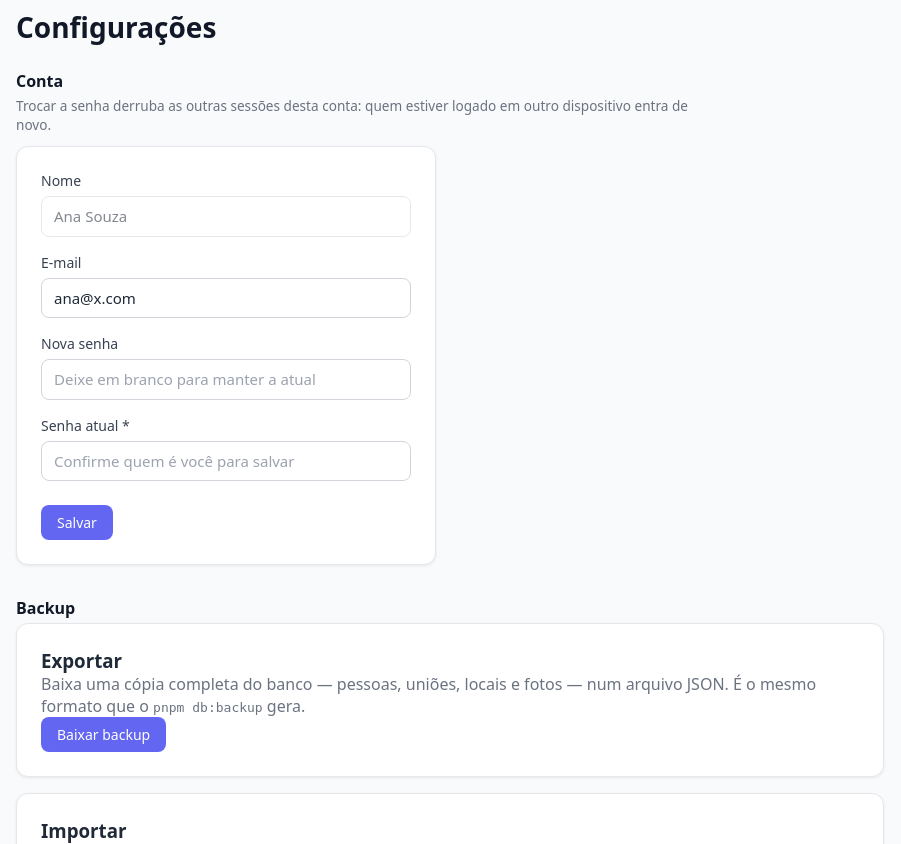
Configurações — conta › e-mail já usado por outra conta mostra mensagem de conflito
Replace the text in the field labelled "E-mail" with "ocupado@x.com" at (226, 298), box top-left (41, 278), bottom-right (411, 318)
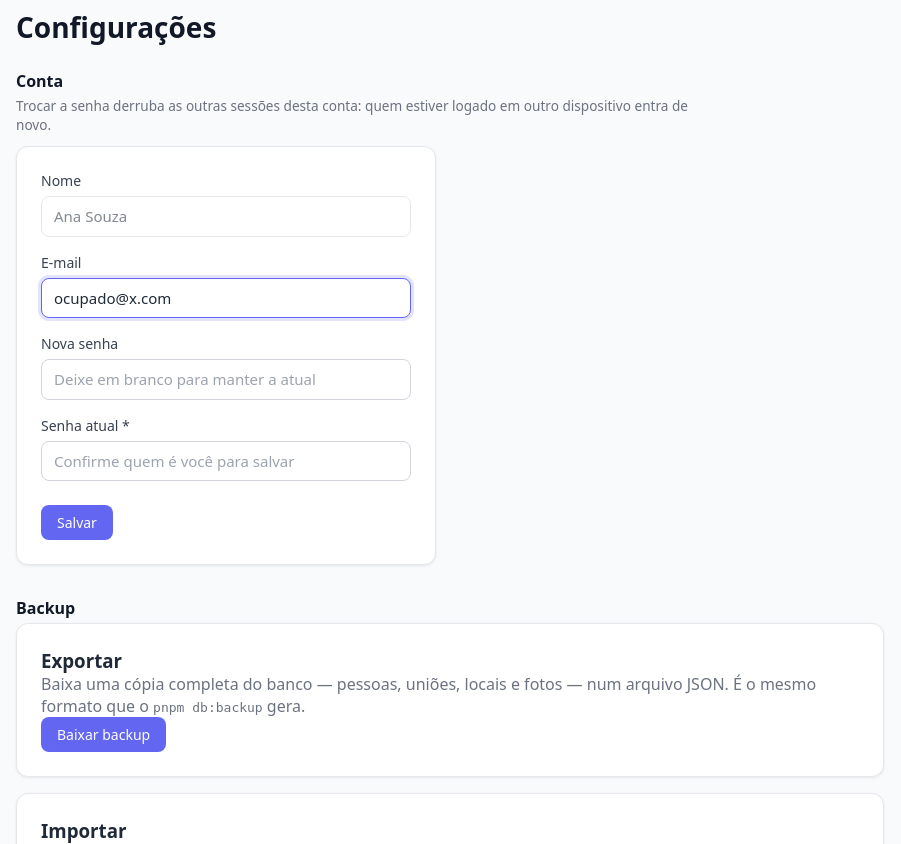
Type "senha1234" into the password field labelled "Senha atual *" at (226, 461), box top-left (41, 440), bottom-right (411, 481)
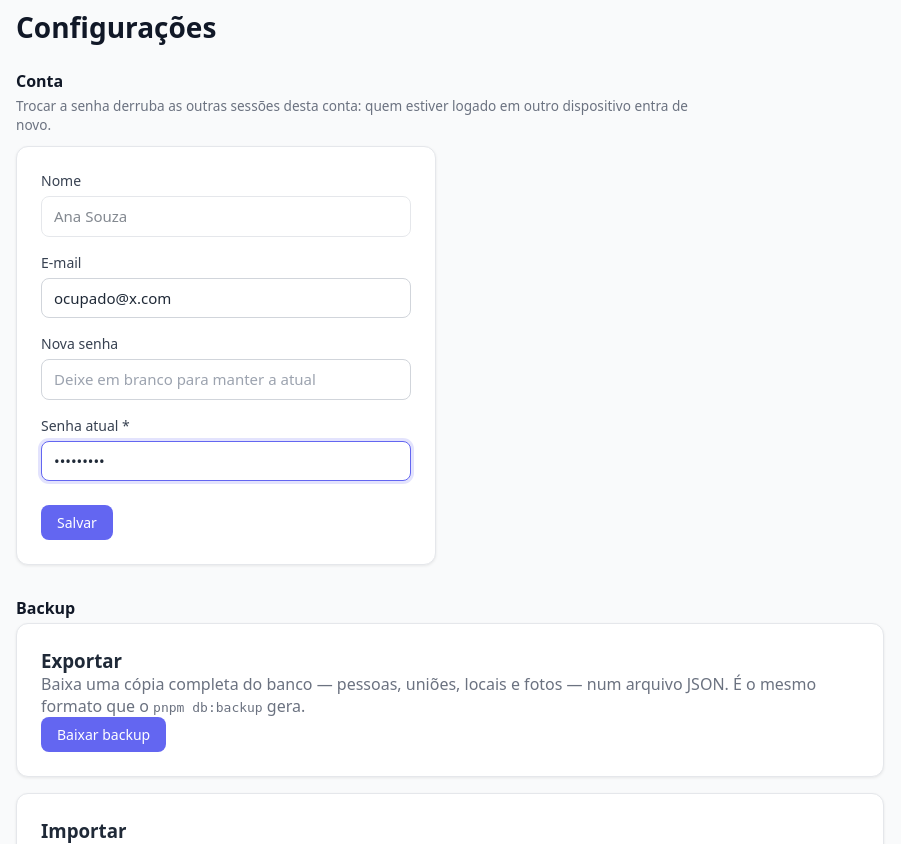
Click the button "Salvar" at (77, 522), box top-left (41, 505), bottom-right (113, 540)
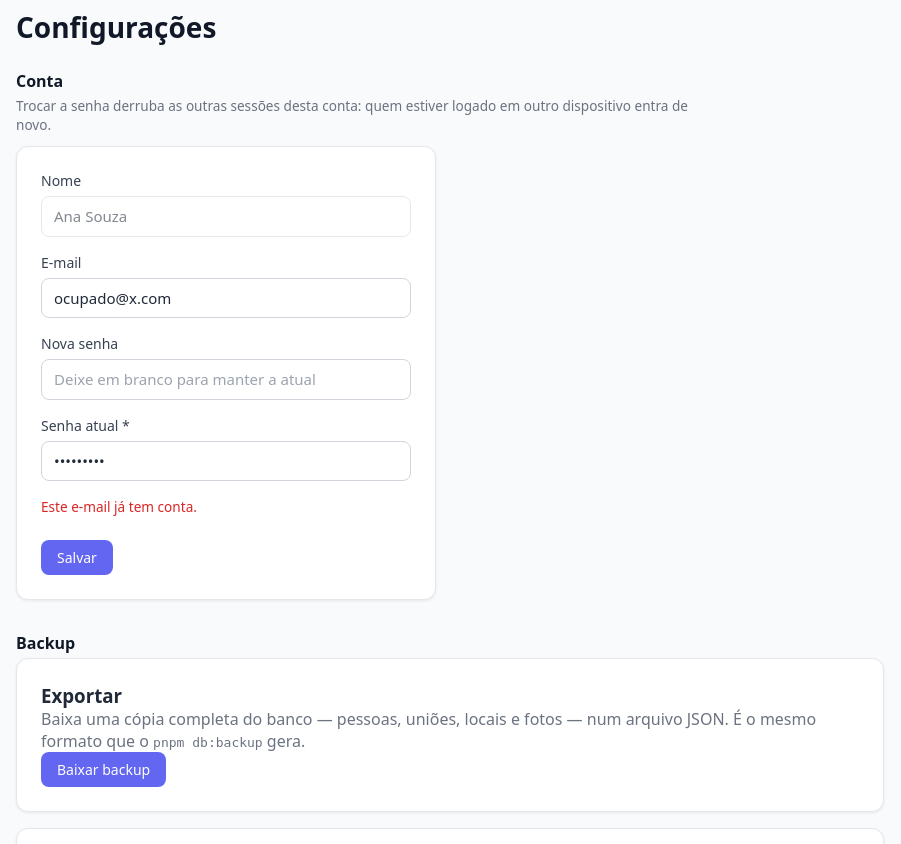
Now the text "Este e-mail já tem conta." is shown, box top-left (41, 497), bottom-right (197, 516)
